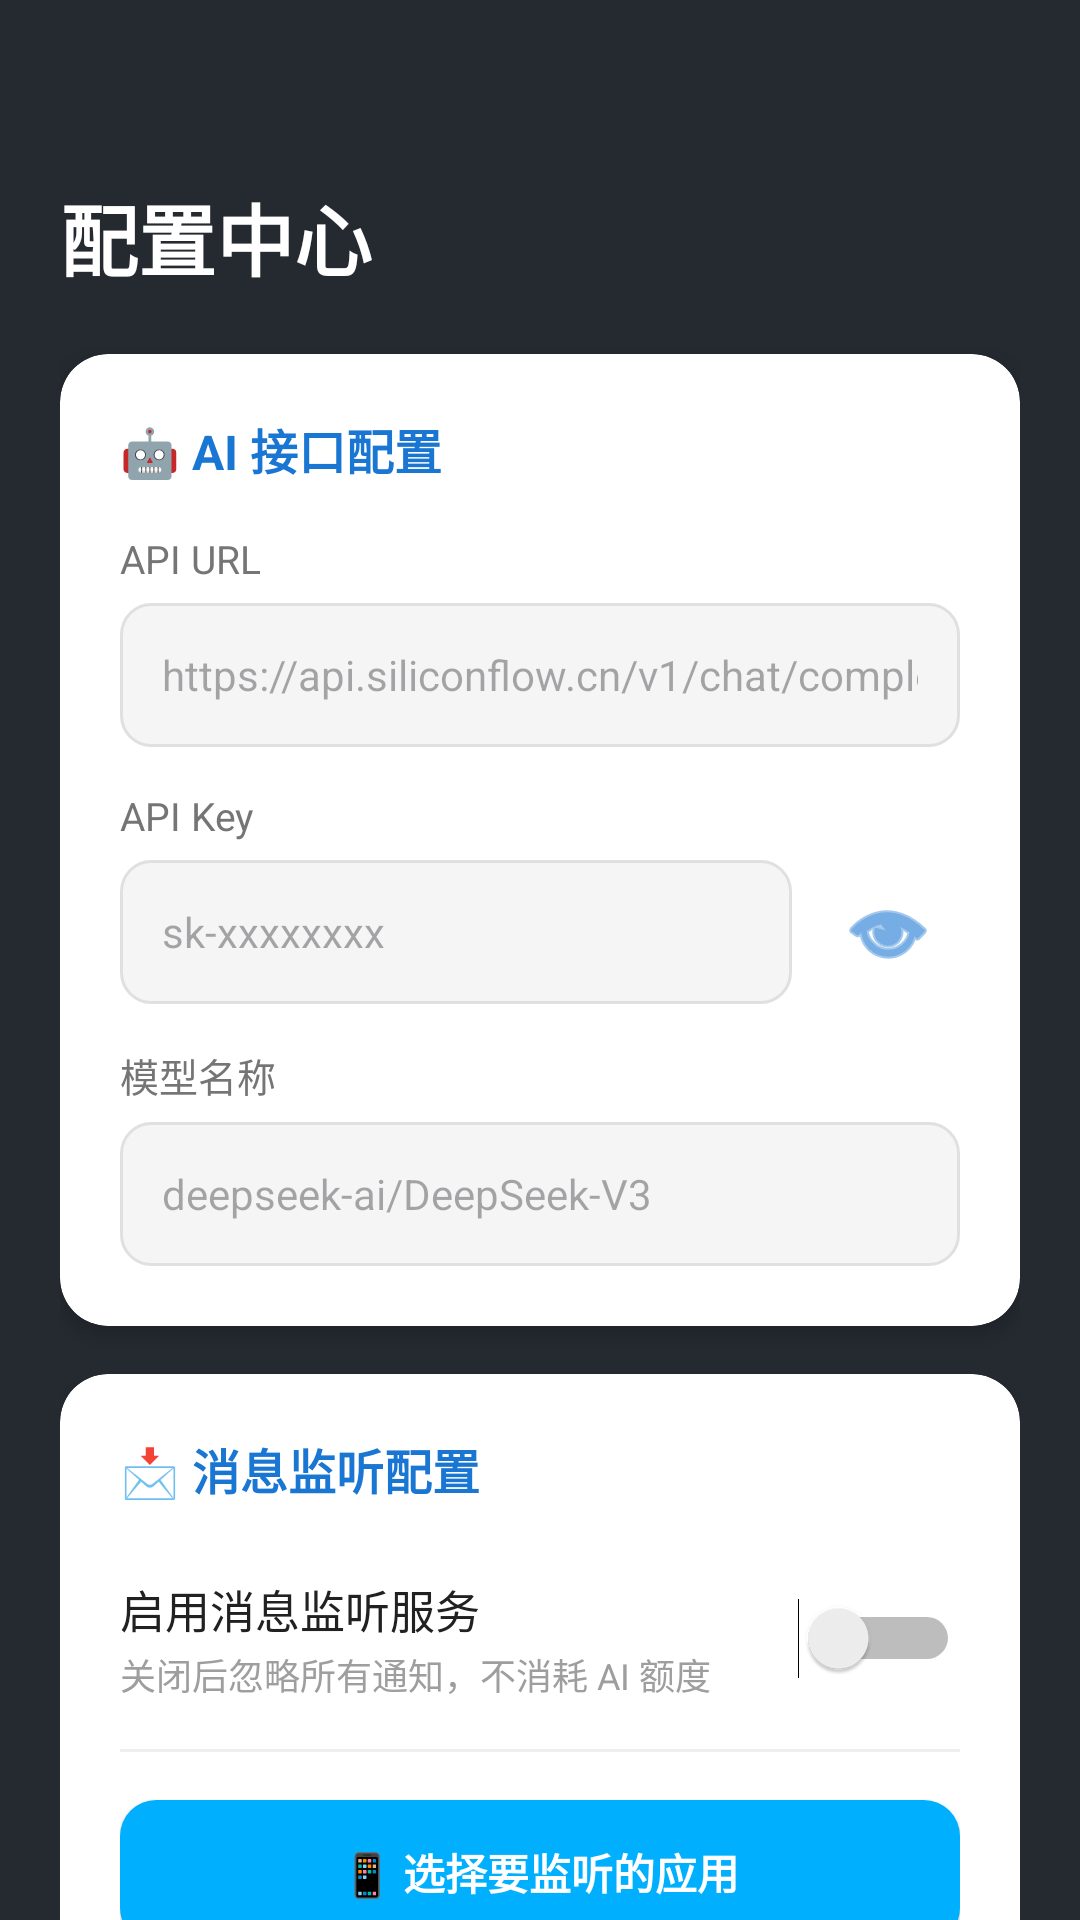

Locate icon controls on the screen. Image size 1080px x 1920px, boxes as (x1, y1, x2, y2).
显示或隐藏密码: (849, 910, 927, 959)
